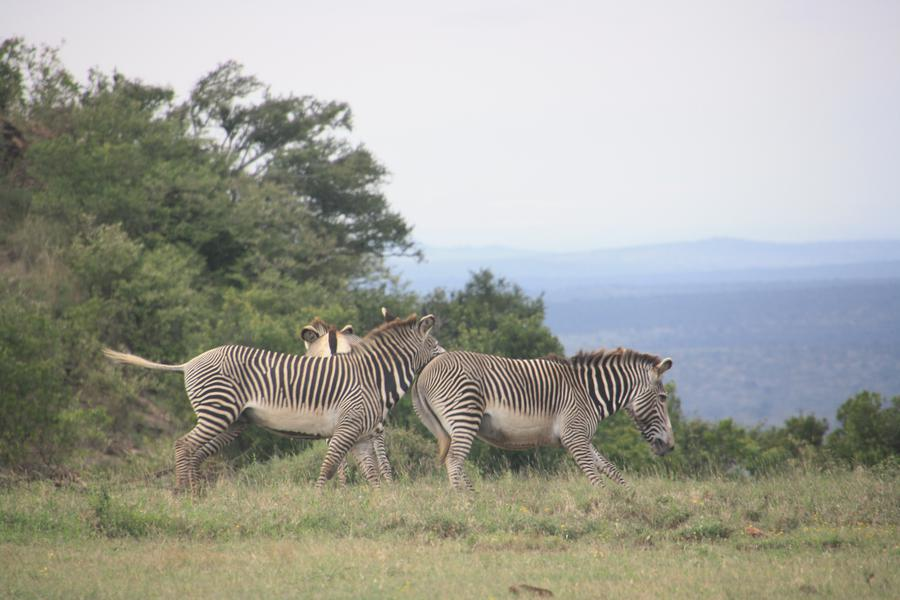zebra_grevys: (175, 328, 369, 440)
